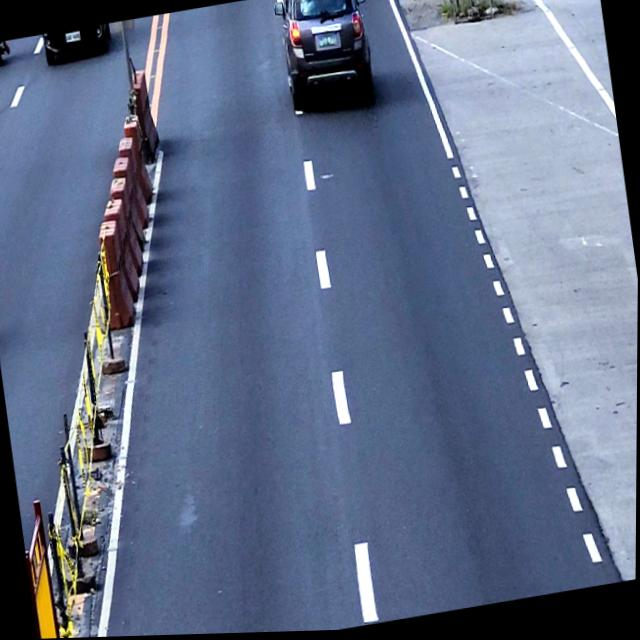Car: (271, 0, 381, 122), (42, 24, 113, 68)
License-Plate: (317, 33, 337, 51), (65, 30, 81, 43)
